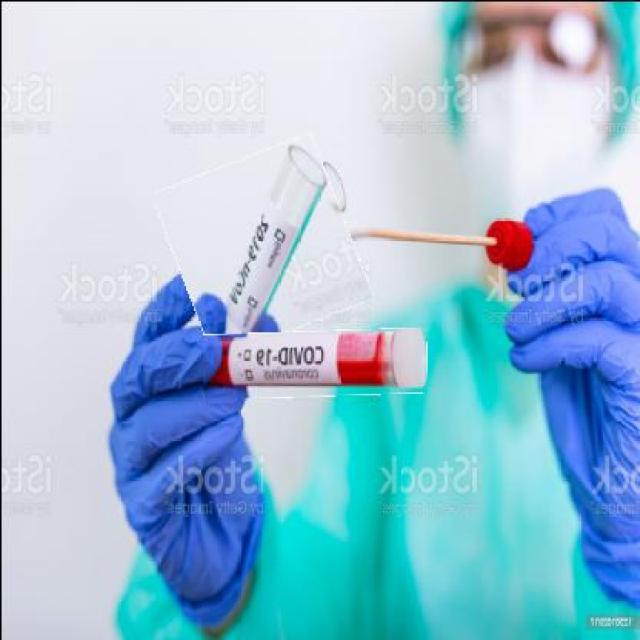Experimental-tube: (162, 143, 360, 345), (200, 329, 425, 397)
